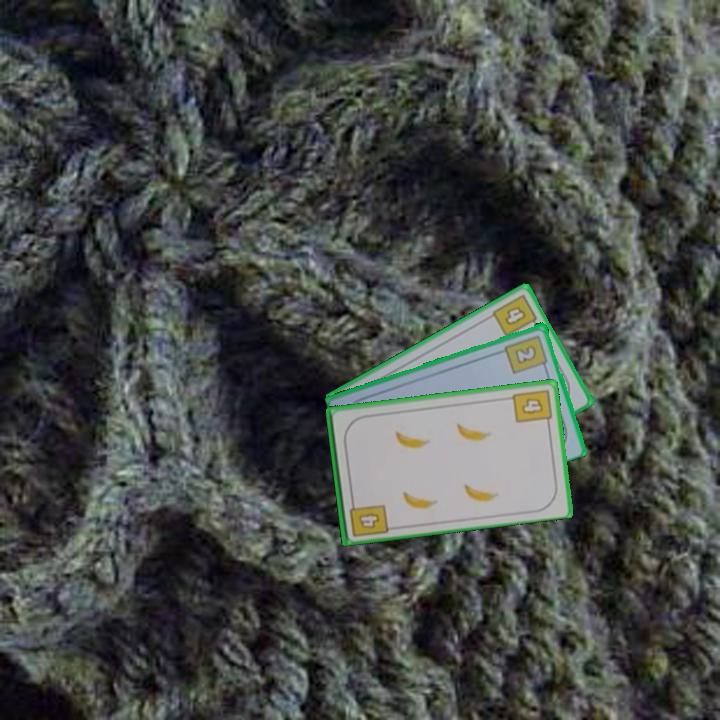2b: (502, 331, 551, 376)
4b: (489, 290, 542, 339), (346, 495, 390, 539), (509, 386, 554, 428)
